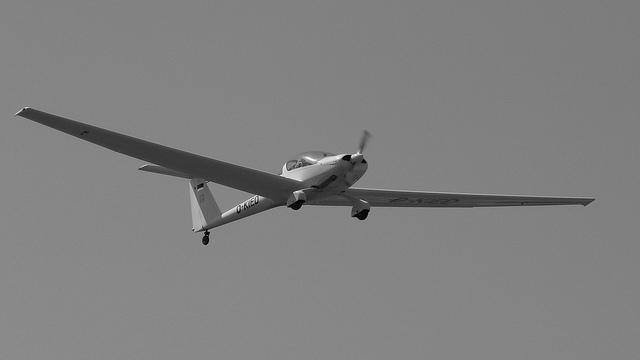airplane: (12, 98, 598, 245)
